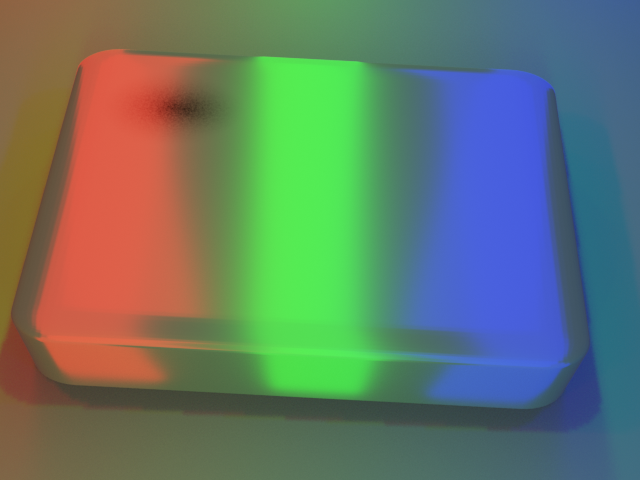stain: (46, 40, 254, 148)
